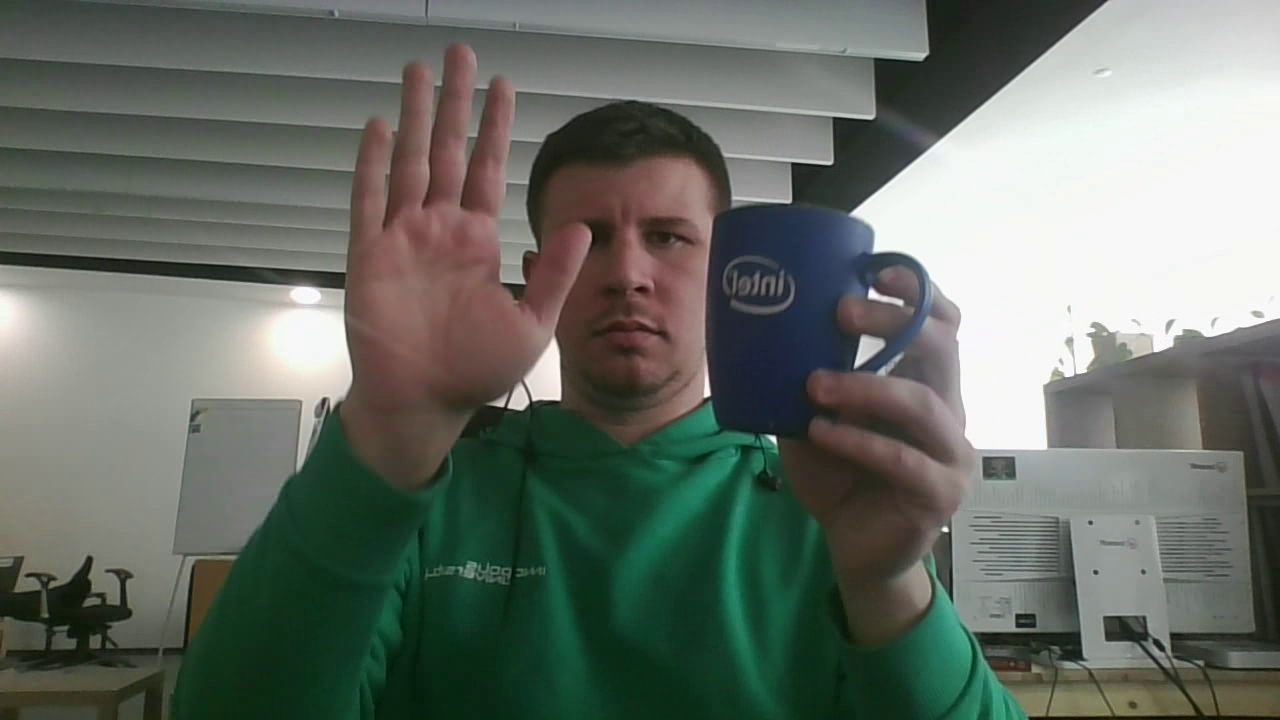cup: (705, 205, 934, 434)
